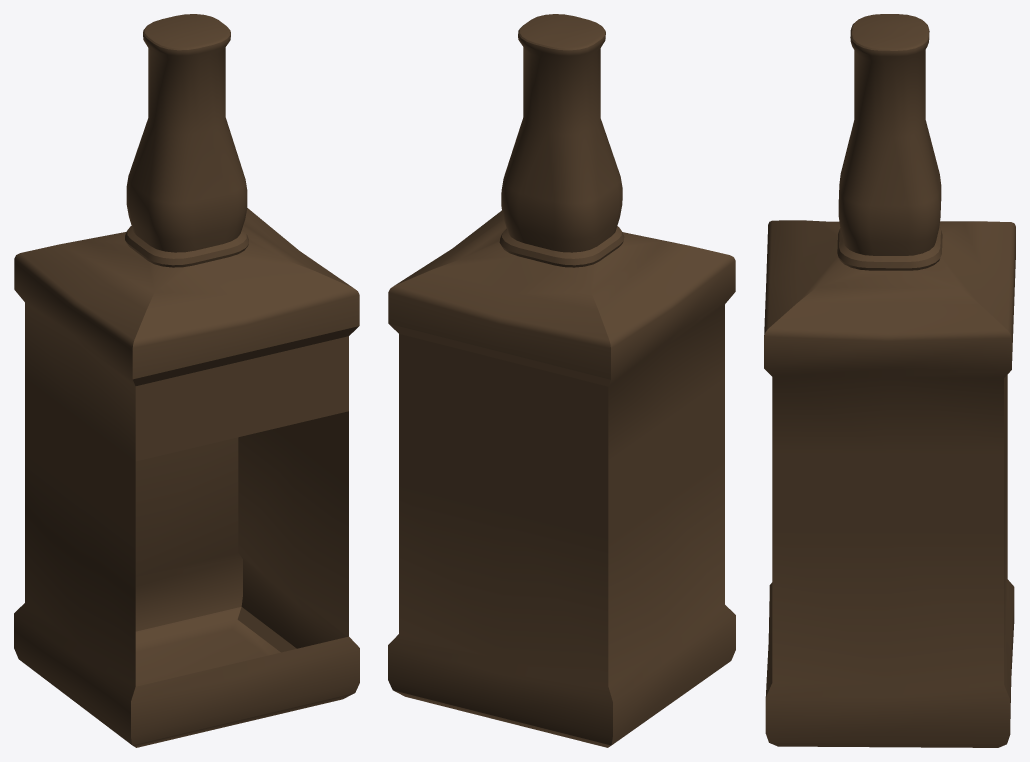
Rendered from alcoholbtle.fbx.
3 renders of one model, left to right at view 1: azimuth 30°, elevation 25°; view 2: azimuth 150°, elevation 25°; view 3: azimuth 270°, elevation 25°, orthographic.
Parts seen in each view (by area): view 1: Object_20; view 2: Object_20; view 3: Object_20.
Part boxes in pixels (<box>): Object_20: <box>14,14,359,747</box>; Object_20: <box>388,14,735,747</box>; Object_20: <box>764,14,1015,747</box>.
Size of the model in its own units: 28.07 by 76.4 by 26.09.
